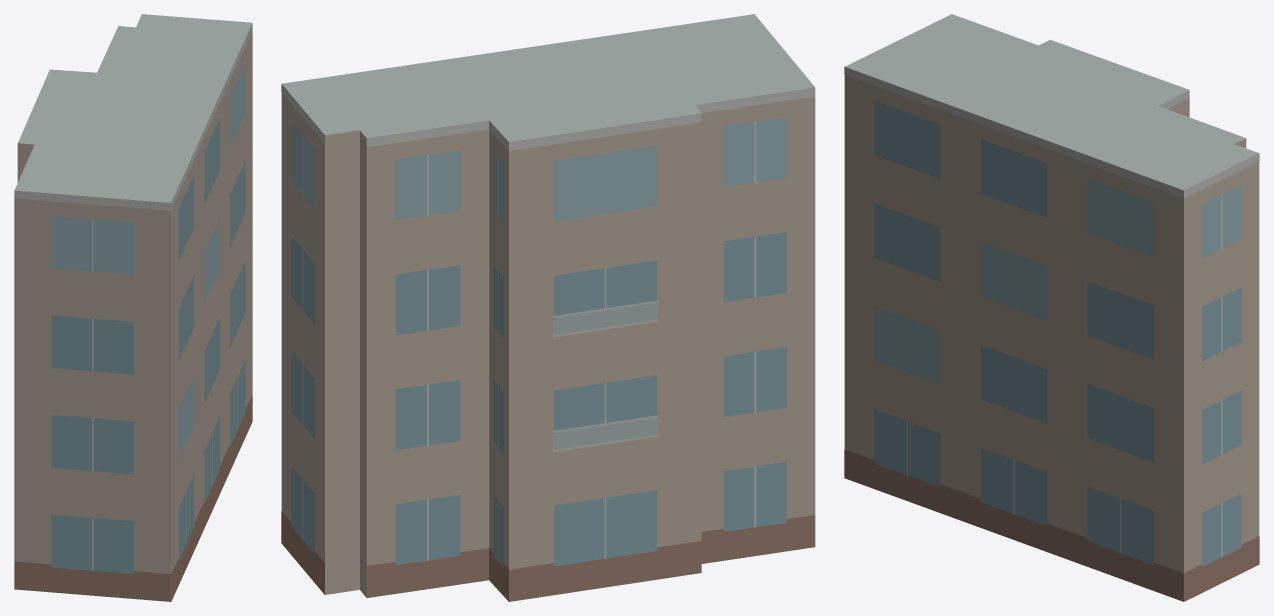
File: survey-upis-32840849.glb
The picture shows the model from 3 angles, left to right: view 1: azimuth 30°, elevation 25°; view 2: azimuth 150°, elevation 25°; view 3: azimuth 270°, elevation 25°; orthographic projection. The views are drawn at different scales.
Parts seen in each view (by area): view 1: survey-upis-32840849.tmp; view 2: survey-upis-32840849.tmp; view 3: survey-upis-32840849.tmp.
Boxes of the visible parts, x1,y1,x2,y2 form: survey-upis-32840849.tmp: (14, 14, 252, 601); survey-upis-32840849.tmp: (281, 14, 815, 601); survey-upis-32840849.tmp: (844, 14, 1259, 601).
Bounding box in the file's own units: 11.51 × 12.5 × 11.43.
